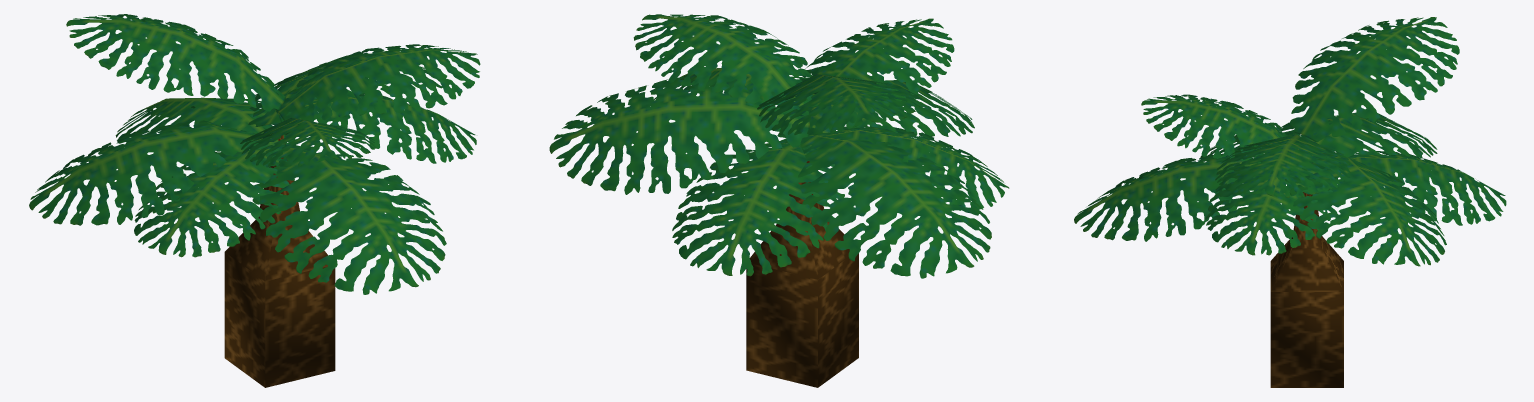
The model's file is jungle_undergrowth_1_4.dae.
3 views of the same model, side by side, from view 1: azimuth 30°, elevation 25°; view 2: azimuth 150°, elevation 25°; view 3: azimuth 270°, elevation 25° (orthographic). The views are drawn at different scales.
Visible parts, largest first — view 1: Cube; view 2: Cube; view 3: Cube.
Boxes of the visible parts, x1,y1,x2,y2 form: Cube: [29, 14, 480, 387]; Cube: [549, 14, 1009, 387]; Cube: [1074, 17, 1506, 387].
Bounding box in the file's own units: 0.4136 × 0.4 × 0.2883.
1 material, 1 textured.
